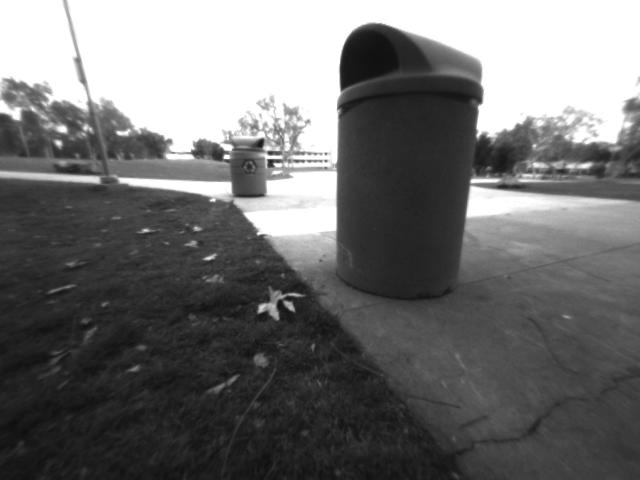trashcan: (310, 9, 486, 309)
